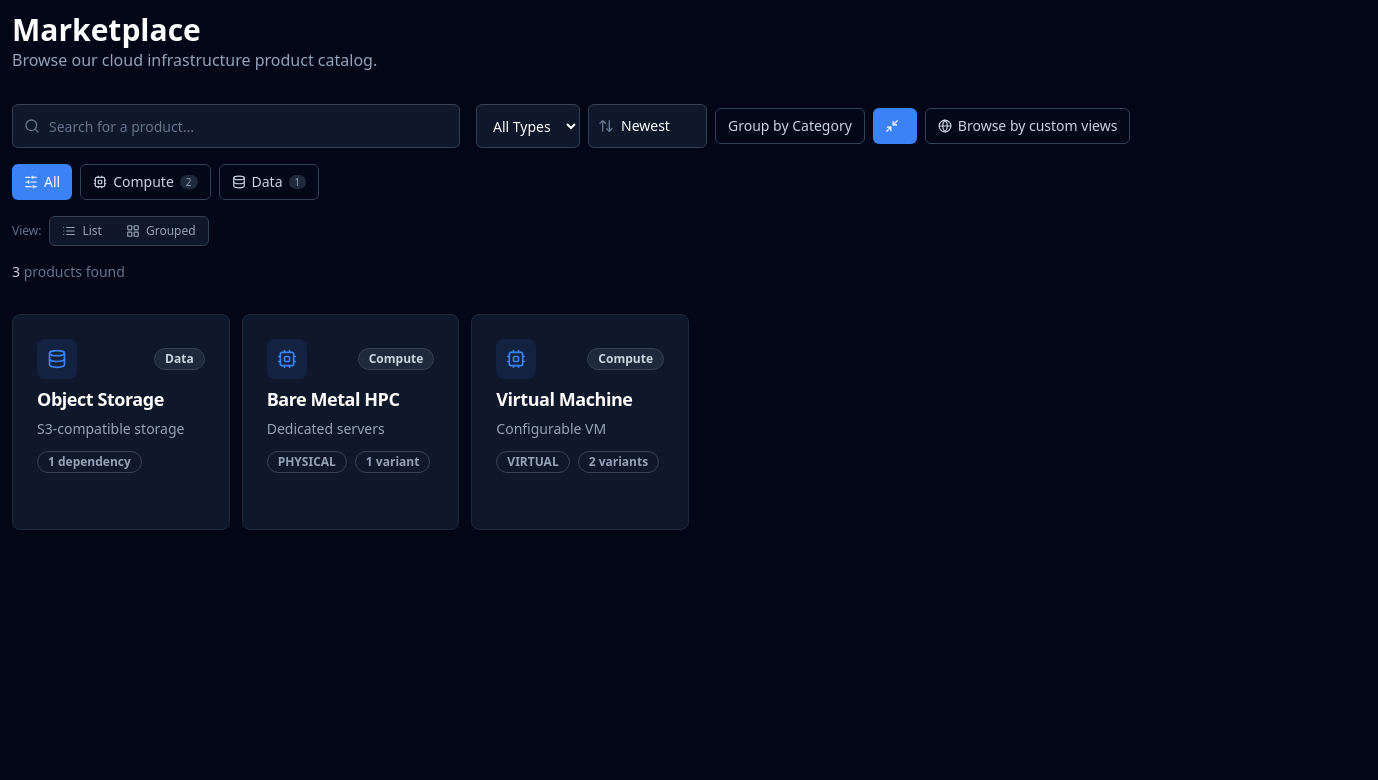
Test: Marketplace — Prisma Schema Refactor › Group by Category Toggle › toggles group by category mode
This screenshot has width=1378, height=780.
Check: the heading "Virtual Machine" is shown, box [496,387,632,411]
What coordinates should you click on to do the following:
click the button "Group by Category"
I would click on:
 (790, 126)
Its box is [715,108,865,144].
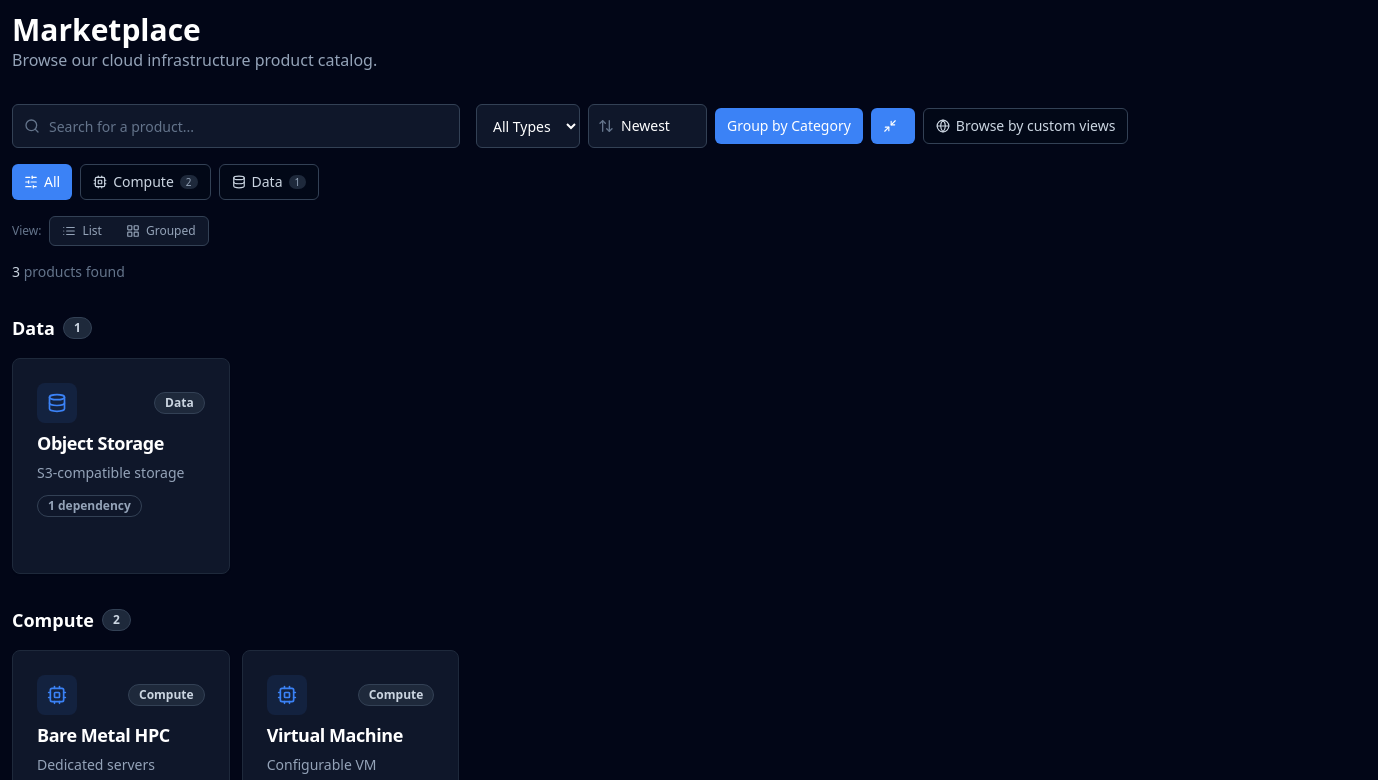
Check: the heading "Compute 2" is shown, box [12,608,131,632]
Check: the heading "Data 1" is shown, box [12,316,92,340]
